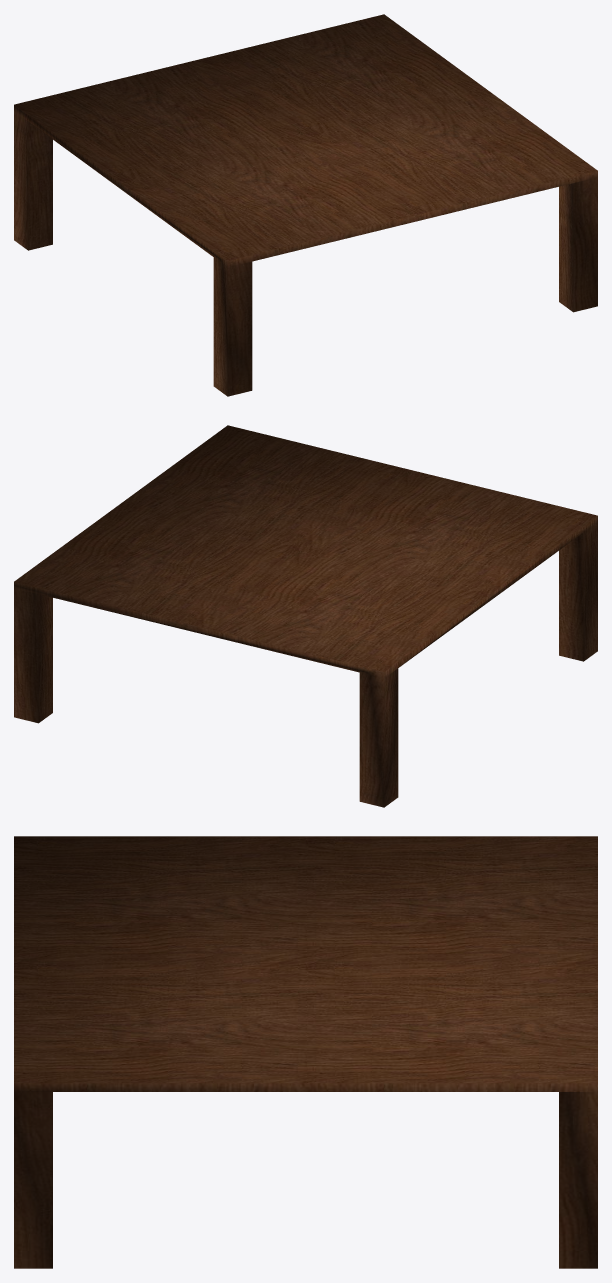
The model's file is table.fbx.
The picture shows the model from 3 angles, top to bottom: view 1: azimuth 30°, elevation 25°; view 2: azimuth 150°, elevation 25°; view 3: azimuth 270°, elevation 25°; orthographic projection. The views are drawn at different scales.
Visible parts, largest first — view 1: cube2; view 2: cube2; view 3: cube2.
Boxes of the visible parts, x1,y1,x2,y2 form: cube2: (14,14,597,396); cube2: (14,425,597,807); cube2: (14,836,597,1268).
Size of the model in its own units: 60 by 21 by 60.
1 material, 1 textured.
